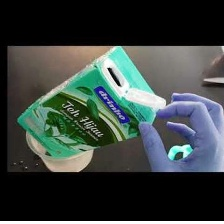carton: (13, 45, 175, 160)
glass: (21, 128, 104, 172)
